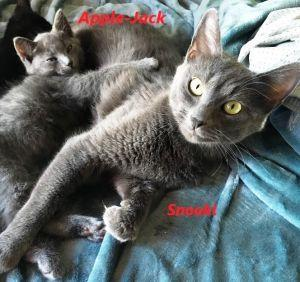rblue: (168, 8, 300, 151)
